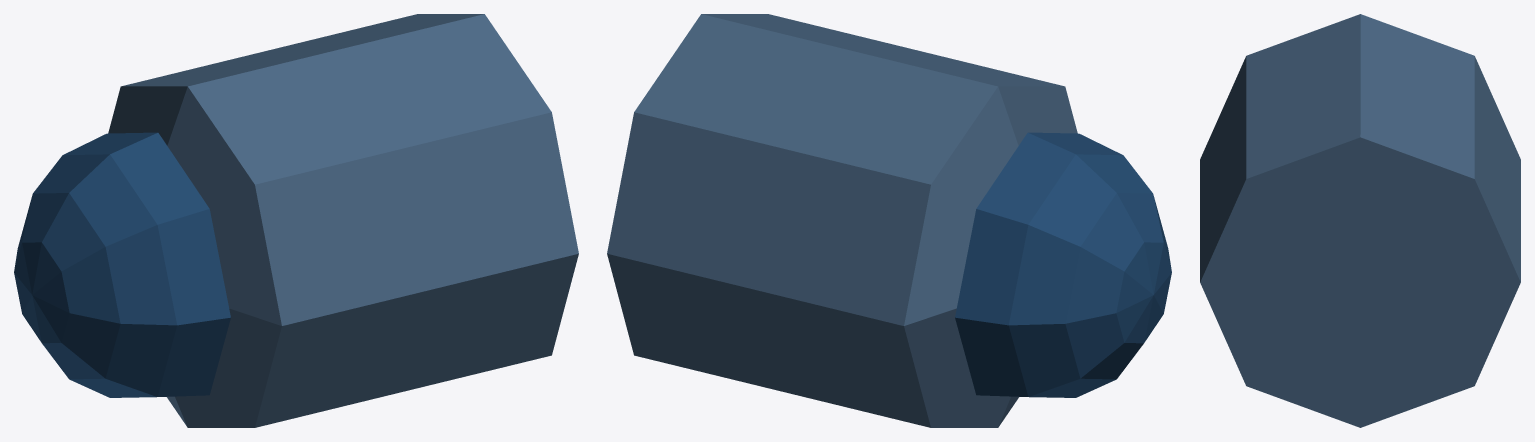
The model's file is tpVideo_emergencyExitBtnB_blue_inWalll.gltf.
The picture shows the model from 3 angles, left to right: view 1: azimuth 30°, elevation 25°; view 2: azimuth 150°, elevation 25°; view 3: azimuth 270°, elevation 25°; orthographic projection. The views are drawn at different scales.
Parts seen in each view (by area): view 1: ExitButtonA; view 2: ExitButtonA; view 3: ExitButtonA.
Boxes of the visible parts, x1,y1,x2,y2 form: ExitButtonA: (14, 14, 578, 427); ExitButtonA: (607, 14, 1171, 427); ExitButtonA: (1200, 14, 1520, 427).
Size of what is drawn, in the model's own units: 0.3439 by 0.248 by 0.248.
Materials: 1 (1 with a texture image).
